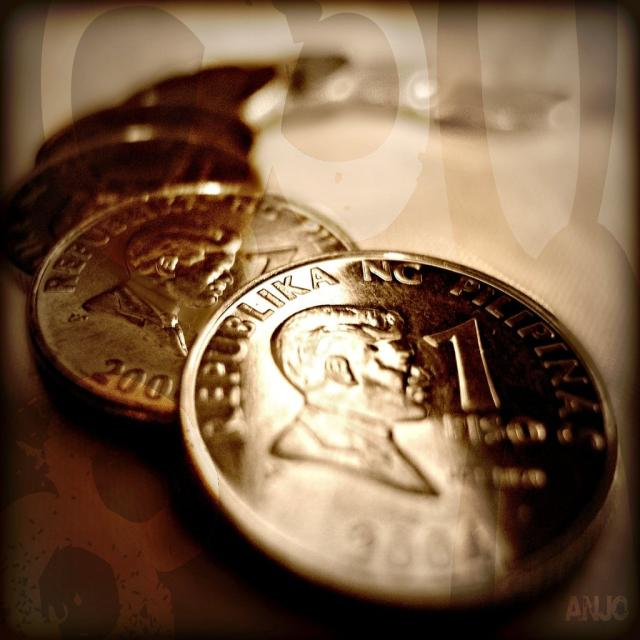Coin: (0, 100, 623, 609)
